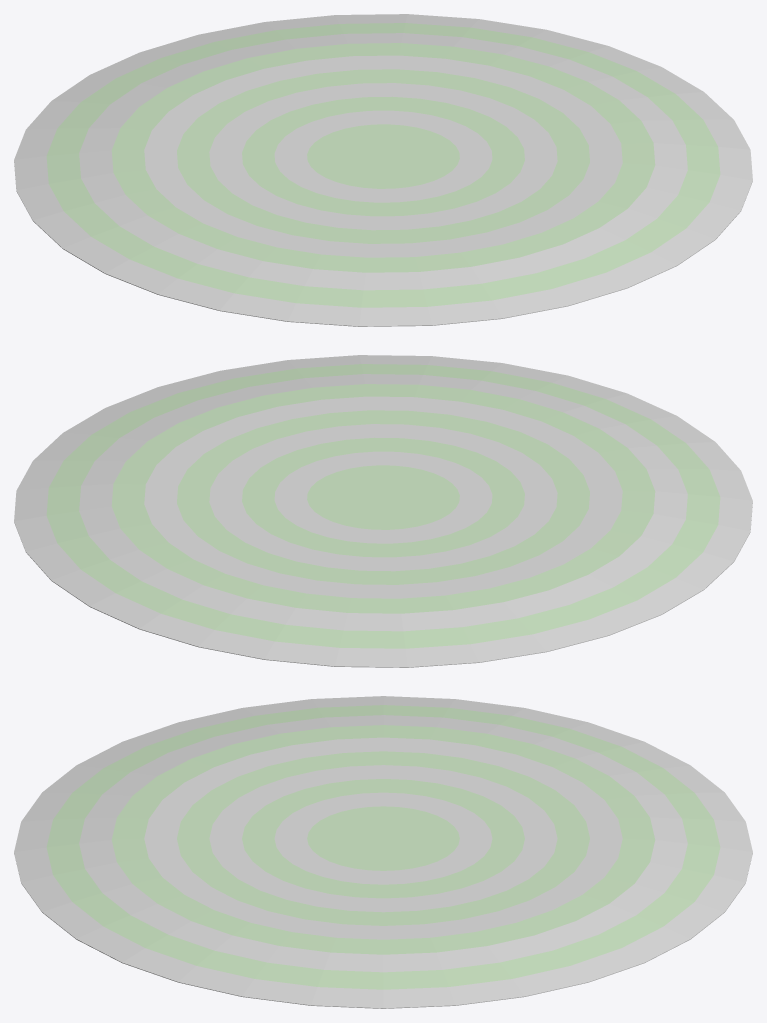
Rendered from bitiş.fbx.
The picture shows the model from 3 angles, top to bottom: view 1: azimuth 30°, elevation 25°; view 2: azimuth 150°, elevation 25°; view 3: azimuth 270°, elevation 25°; orthographic projection.
Visible parts, largest first — view 1: Cylinder; view 2: Cylinder; view 3: Cylinder.
Part boxes in pixels (x1,y1,x2,y2): Cylinder: (14,14,752,326); Cylinder: (14,355,752,667); Cylinder: (14,696,752,1008).
Size of the model in its own units: 1368 by 28.85 by 1368.
